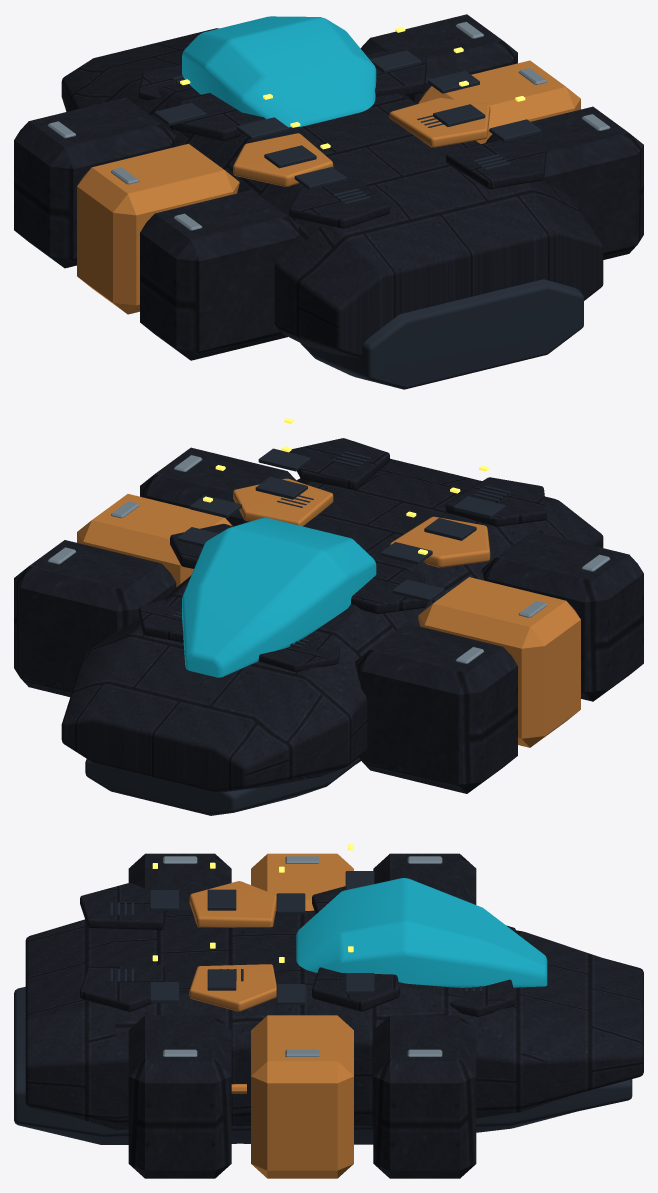
File: leviathan.glb
3 views of the same model, one above another, from view 1: azimuth 30°, elevation 25°; view 2: azimuth 150°, elevation 25°; view 3: azimuth 270°, elevation 25° (orthographic). The views are drawn at different scales.
Parts seen in each view (by area): view 1: Gôndola do motor.025 · exportação, Colar da turbina.076 · exportação, Bocal do motor.025 · exportação, Cabine panorâmica.012 · exportação, Aleta do bocal.207 · exportação; view 2: Gôndola do motor.025 · exportação, Colar da turbina.076 · exportação, Cabine panorâmica.012 · exportação, Bocal do motor.025 · exportação, Aleta do bocal.207 · exportação; view 3: Gôndola do motor.025 · exportação, Colar da turbina.076 · exportação, Cabine panorâmica.012 · exportação, Bocal do motor.025 · exportação, Aleta do bocal.207 · exportação.
Part boxes in pixels (x1,y1,x2,y2): Gôndola do motor.025 · exportação: [14, 14, 643, 360]; Colar da turbina.076 · exportação: [77, 60, 580, 314]; Bocal do motor.025 · exportação: [154, 50, 583, 389]; Cabine panorâmica.012 · exportação: [182, 16, 376, 127]; Aleta do bocal.207 · exportação: [47, 22, 610, 230]; Gôndola do motor.025 · exportação: [14, 438, 643, 793]; Colar da turbina.076 · exportação: [77, 478, 580, 747]; Cabine panorâmica.012 · exportação: [182, 517, 376, 677]; Bocal do motor.025 · exportação: [85, 448, 510, 815]; Aleta do bocal.207 · exportação: [47, 455, 610, 663]; Gôndola do motor.025 · exportação: [25, 853, 643, 1178]; Colar da turbina.076 · exportação: [189, 853, 353, 1178]; Cabine panorâmica.012 · exportação: [296, 878, 547, 987]; Bocal do motor.025 · exportação: [14, 871, 632, 1144]; Aleta do bocal.207 · exportação: [163, 856, 442, 1056].
Bounding box in the file's own units: 45.58 × 20.76 × 54.76.
7 materials, 1 textured.
